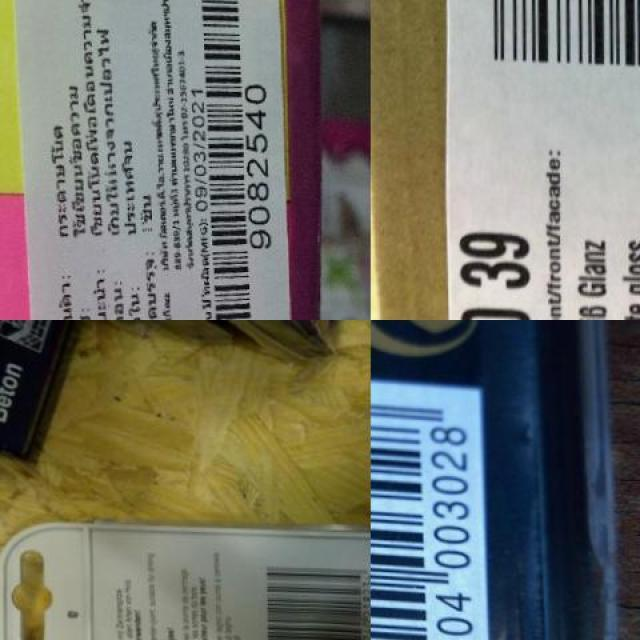Barcode: (371, 377, 485, 640), (193, 0, 270, 320), (466, 0, 640, 84), (250, 540, 370, 640)
